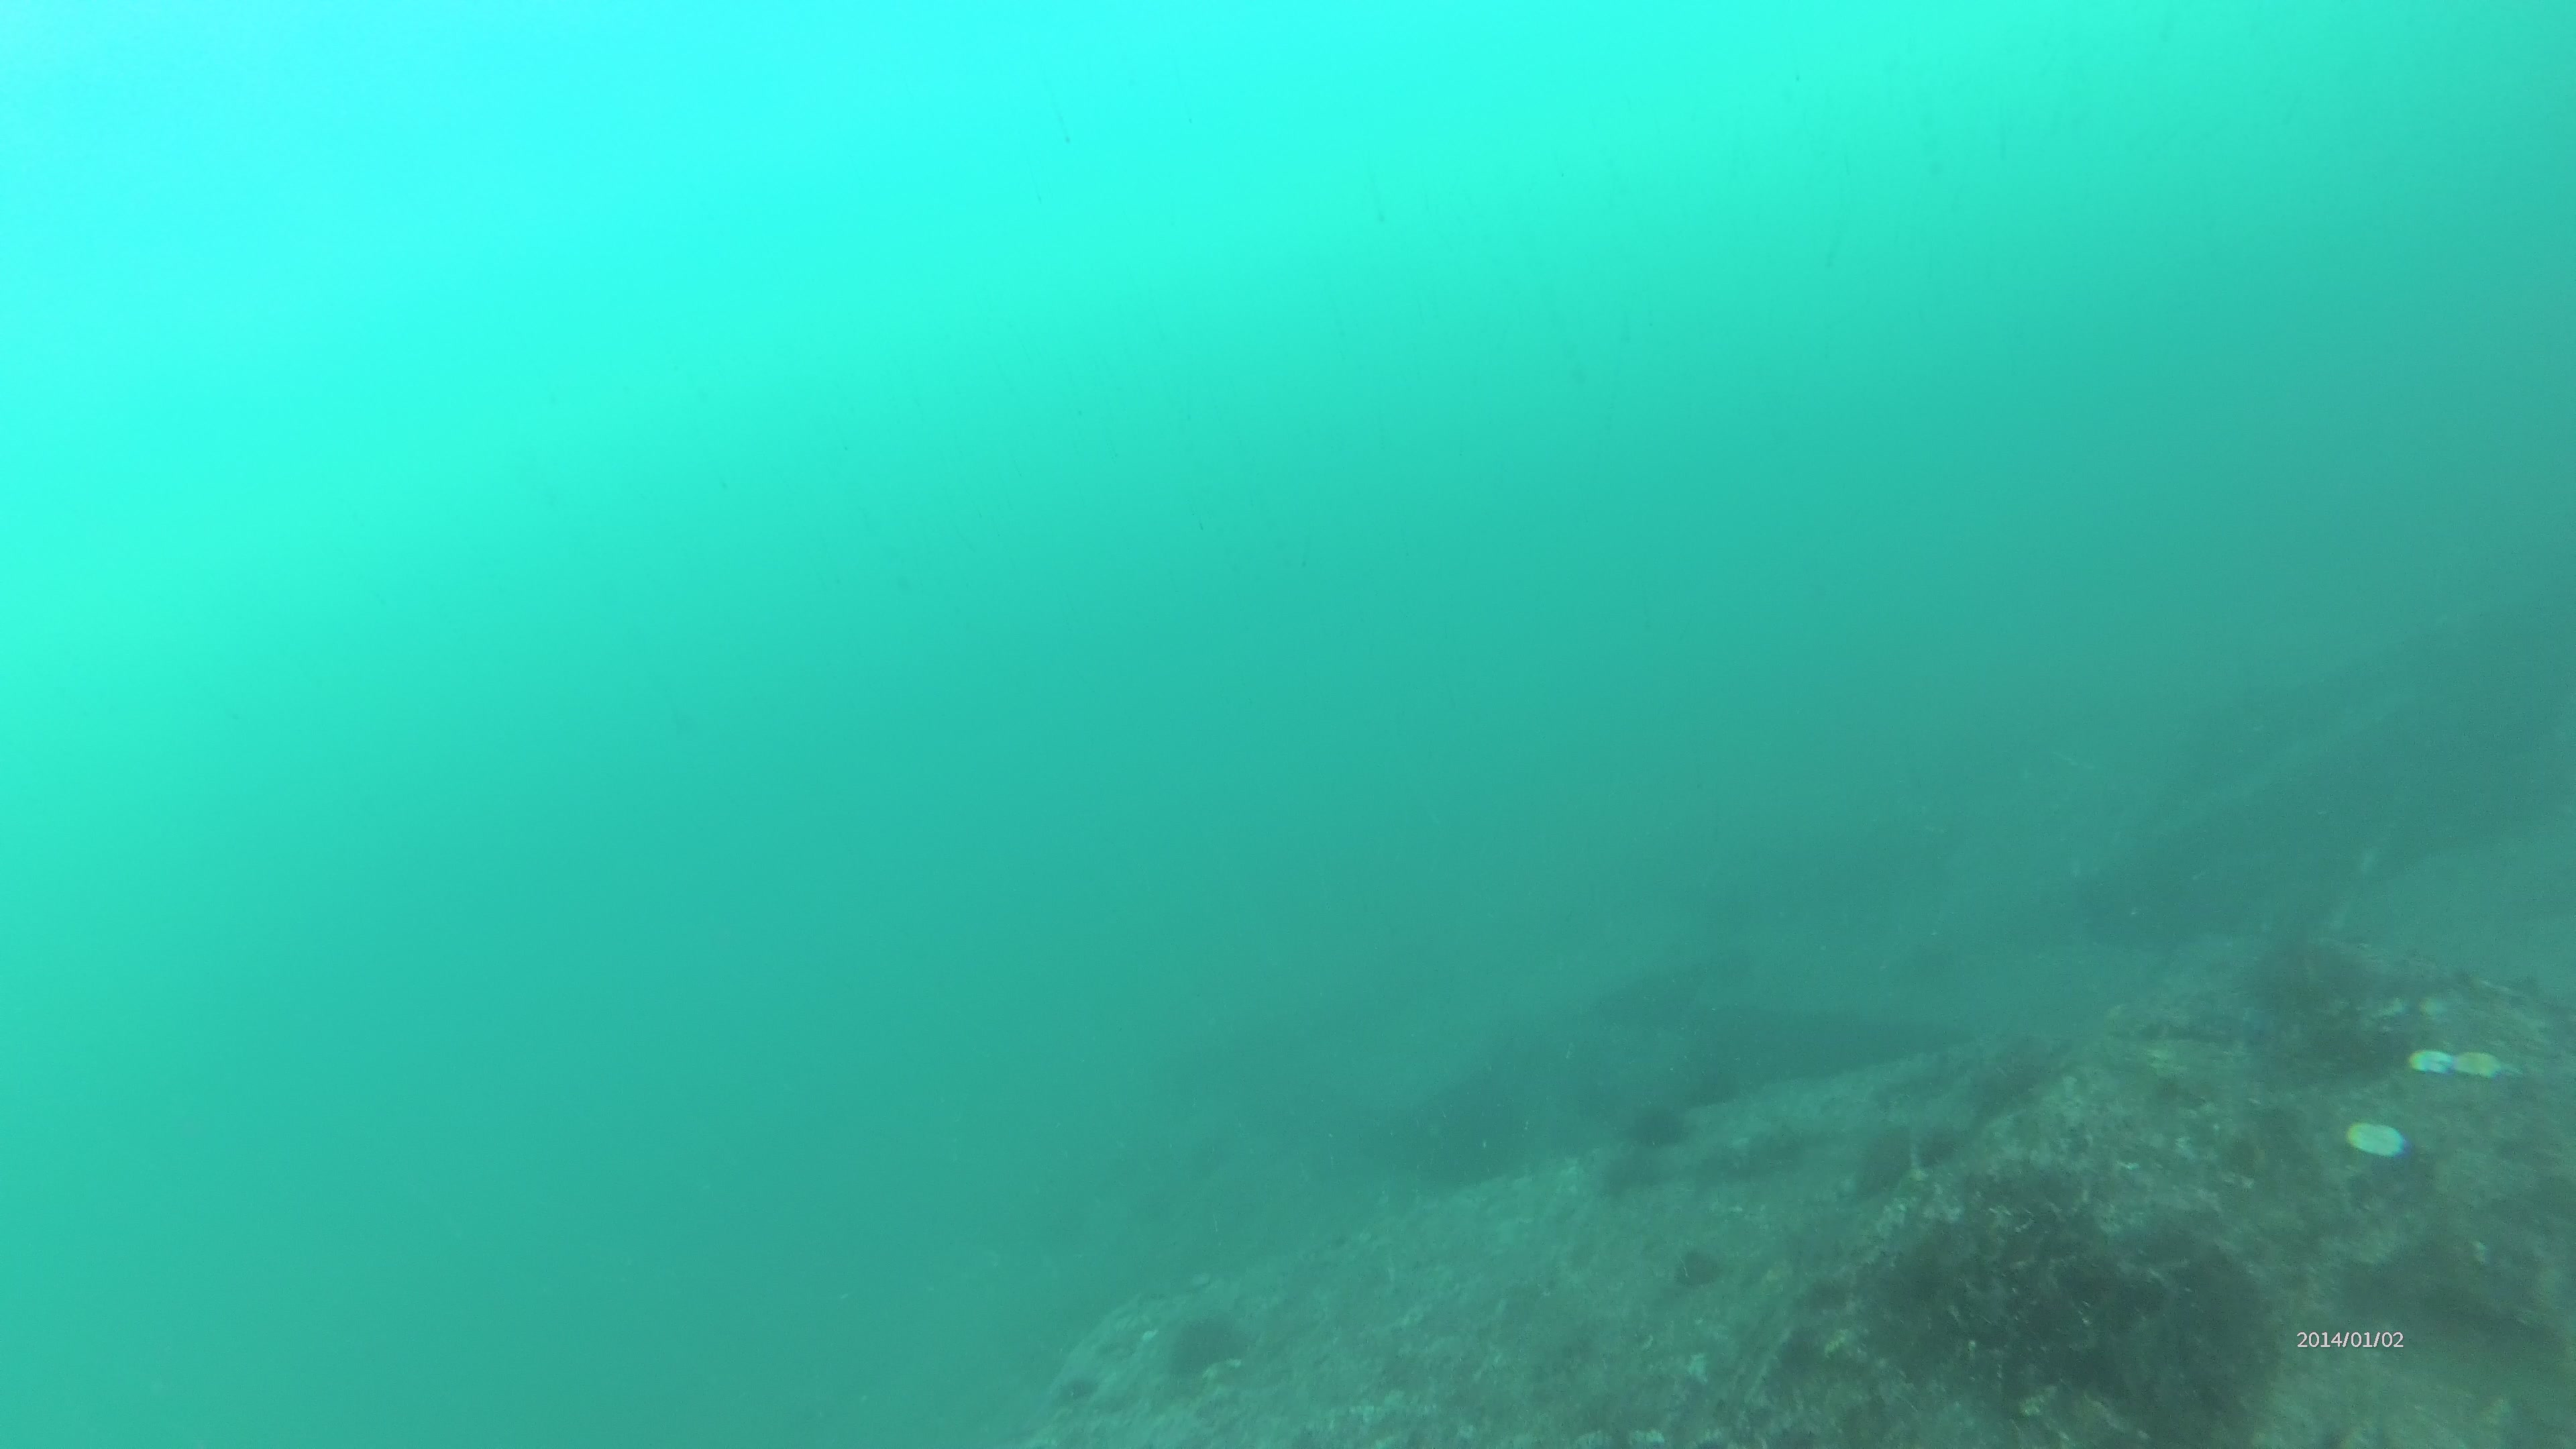echinus: (1957, 1030, 2056, 1108), (1166, 1322, 1238, 1373), (1624, 1102, 1688, 1152)
